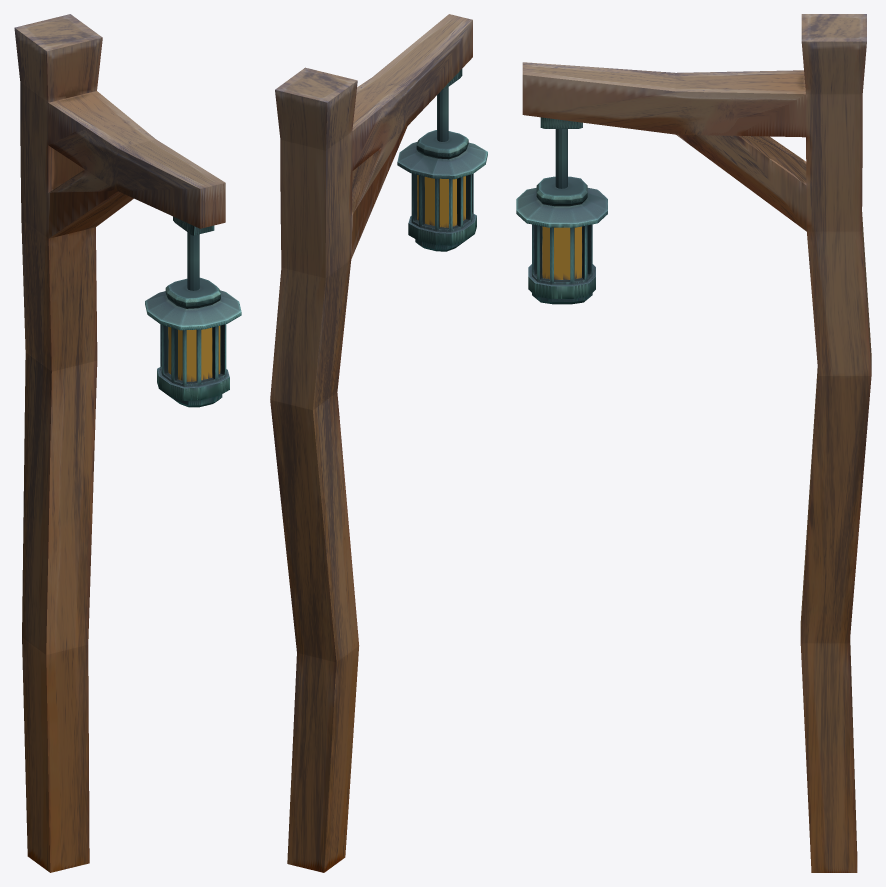
File: townlight.glb
The picture shows the model from 3 angles, left to right: view 1: azimuth 30°, elevation 25°; view 2: azimuth 150°, elevation 25°; view 3: azimuth 270°, elevation 25°; orthographic projection. The views are drawn at different scales.
Parts seen in each view (by area): view 1: townlight_uv; view 2: townlight_uv; view 3: townlight_uv.
Boxes of the visible parts, bbox=[...] form: townlight_uv: bbox=[14, 14, 241, 872]; townlight_uv: bbox=[270, 14, 487, 872]; townlight_uv: bbox=[516, 14, 871, 872].
Bounding box in the file's own units: 1.01 × 10.2 × 3.93.
Materials: 1 (1 with a texture image).
